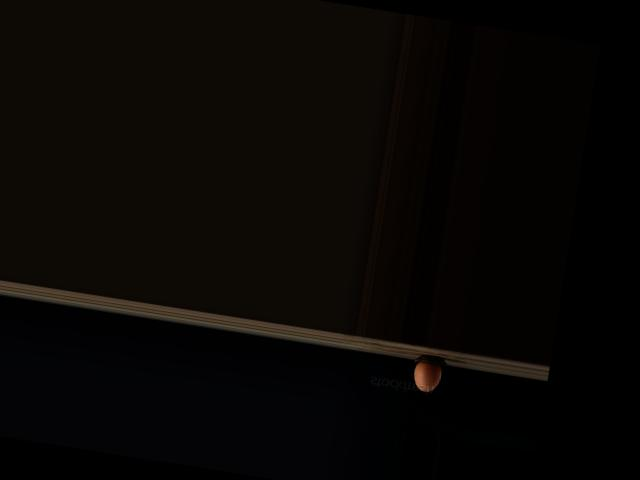egg: (412, 360, 443, 393)
